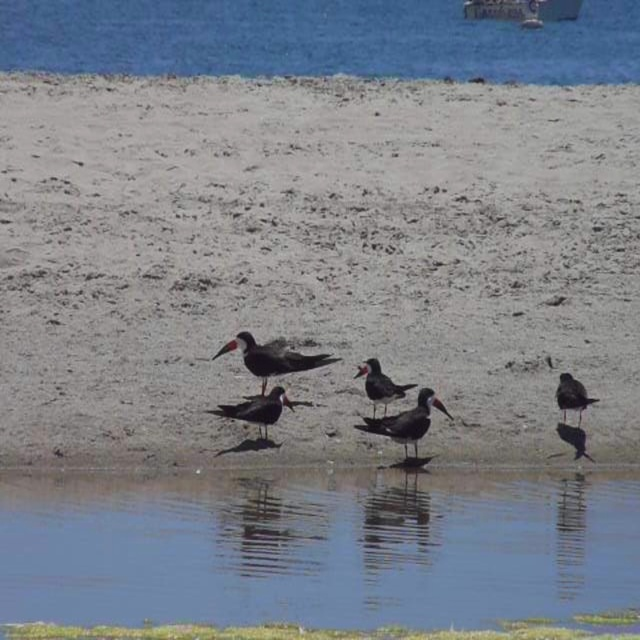Duck: (213, 319, 341, 407), (355, 389, 453, 475), (206, 385, 297, 445), (356, 359, 427, 427), (556, 371, 605, 443)
